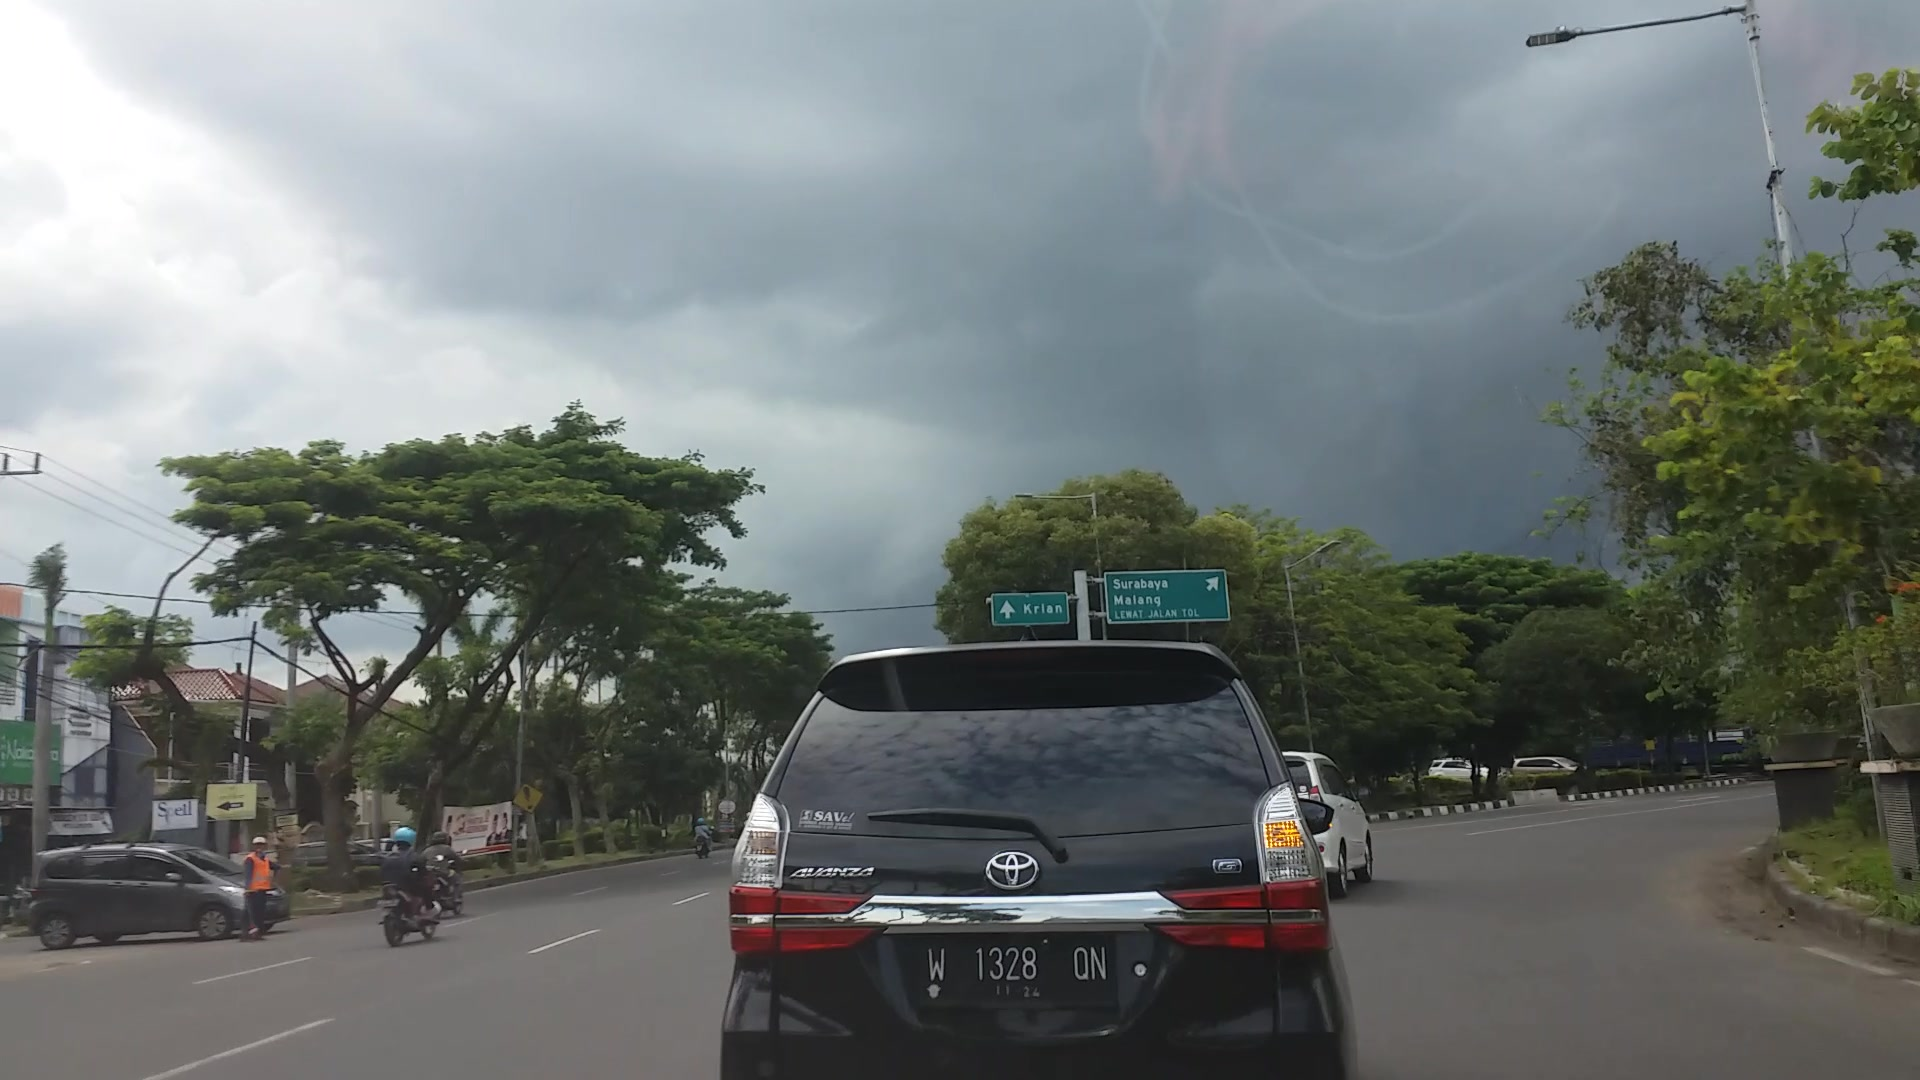plate_positive: (923, 931, 1112, 1002)
